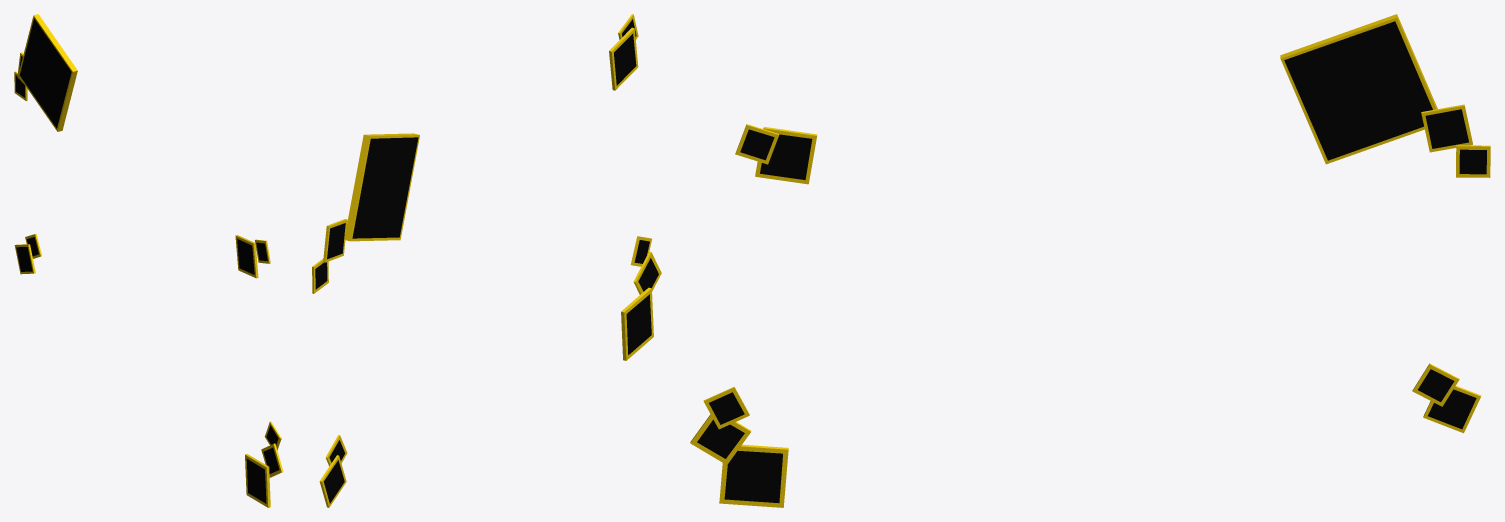
File: REC_UI_Stage3.fbx
3 renders of one model, left to right at view 1: azimuth 30°, elevation 25°; view 2: azimuth 150°, elevation 25°; view 3: azimuth 270°, elevation 25°, orthographic. The views are drawn at different scales.
Visible parts, largest first — view 1: Cube, Cube.005, Cube.008, Cube.004, Cube.006; view 2: Cube, Cube.005, Cube.008, Cube.004, Cube.001, Cube.006, Cube.002, Cube.007; view 3: Cube, Cube.005, Cube.008, Cube.001, Cube.006, Cube.004, Cube.003, Cube.007, Cube.009, Cube.002.
Boxes of the visible parts, x1,y1,x2,y2 form: Cube: (18, 14, 77, 131); Cube.005: (245, 454, 270, 507); Cube.008: (235, 235, 258, 278); Cube.004: (14, 244, 35, 274); Cube.006: (261, 443, 283, 477); Cube: (344, 133, 419, 241); Cube.005: (621, 287, 653, 360); Cube.008: (609, 27, 638, 90); Cube.004: (319, 455, 346, 507); Cube.001: (323, 219, 347, 262); Cube.006: (633, 251, 661, 294); Cube.002: (312, 258, 328, 293); Cube.007: (630, 236, 651, 266); Cube: (1280, 14, 1437, 164); Cube.005: (719, 444, 788, 507); Cube.008: (755, 127, 817, 184); Cube.001: (1421, 104, 1472, 152); Cube.006: (690, 414, 751, 464); Cube.004: (1423, 386, 1481, 433); Cube.003: (1412, 363, 1459, 406); Cube.007: (703, 387, 749, 429); Cube.009: (735, 124, 779, 164); Cube.002: (1456, 145, 1490, 177).
Size of the model in its own units: 0.5306 by 12.05 by 17.91.
